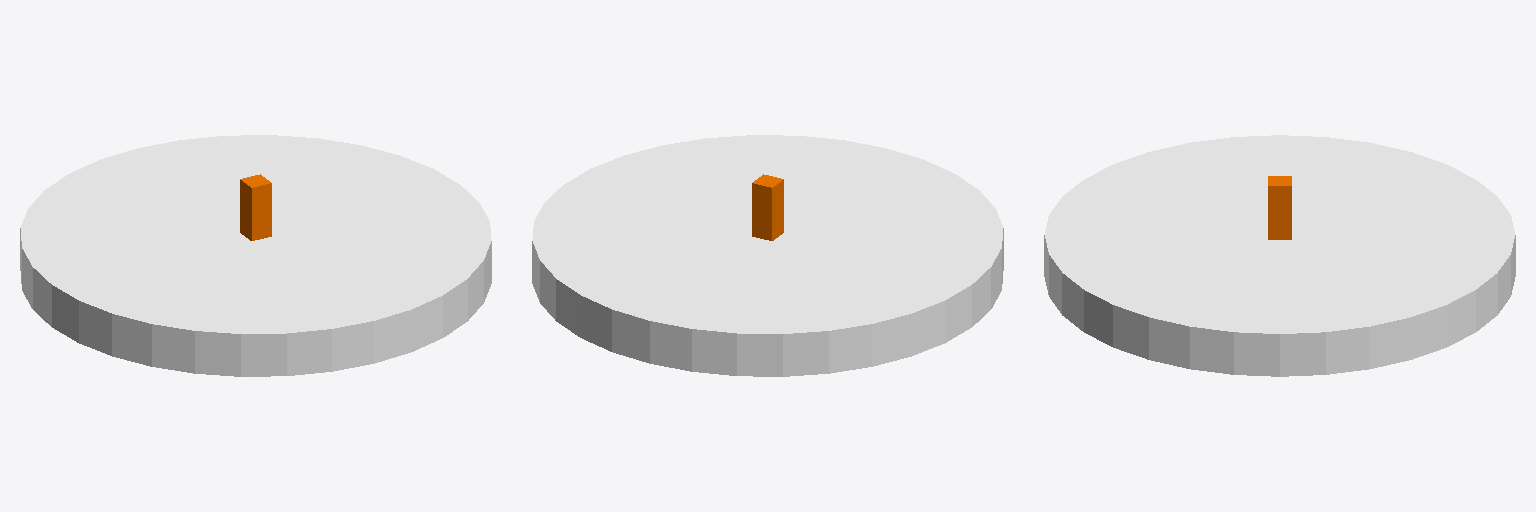
robot.urdf — TDOR_ROBOT:
<?xml version="1.0"?>
<robot name="TDOR_ROBOT" xmlns:xacro="http://www.ros.org/wiki/xacro">

  <!-- ============================== -->
  <!-- 1. base_link (cylinder)        -->
  <!-- ============================== -->
  <link name="base_link">
    <visual>
      <geometry>
        <cylinder radius="1.0" length="0.2"/>
      </geometry>
      <material name="white">
        <color rgba="1.0 1.0 1.0 1.0"/>
      </material>
    </visual>
  </link>

  <!-- ============================== -->
  <!-- 2. joint1 링크 (box)           -->
  <!-- ============================== -->
  <link name="joint1">
    <visual>
      <geometry>
        <box size="0.1 0.1 0.5"/>
      </geometry>
      <material name="orange">
        <color rgba="1.0 0.5 0.0 1.0"/>
      </material>
    </visual>
  </link>

  <!-- ============================== -->
  <!-- 3. revolute joint              -->
  <!-- ============================== -->
  <joint name="joint1_joint" type="revolute">
    <parent link="base_link"/>
    <child link="joint1"/>
    <origin xyz="0 0 0.1" rpy="0 0 0"/>
    <axis xyz="0 0 1"/>
    <limit lower="-3.14" upper="3.14" effort="10" velocity="1"/>
  </joint>

</robot>

--- What the picture shows (computed from the rendered views, not written in the file) ---
The picture shows the robot from 3 angles, left to right: view 1: azimuth 30°, elevation 25°; view 2: azimuth 150°, elevation 25°; view 3: azimuth 270°, elevation 25°; orthographic projection.
Model TDOR_ROBOT with 2 links and 1 joints (1 revolute), rooted at base_link, posed every joint at zero.
Visible links, largest first — view 1: base_link, joint1; view 2: base_link, joint1; view 3: base_link, joint1.
Link boxes in pixels (bbox=[...]): base_link: bbox=[20, 135, 491, 376]; joint1: bbox=[240, 174, 271, 240]; base_link: bbox=[532, 135, 1003, 376]; joint1: bbox=[752, 174, 783, 240]; base_link: bbox=[1044, 135, 1515, 376]; joint1: bbox=[1268, 176, 1291, 239].
Size in the robot's own frame: 2 by 2 by 0.5 metres.
Geometry: primitives only (box / cylinder / sphere), no mesh files.
